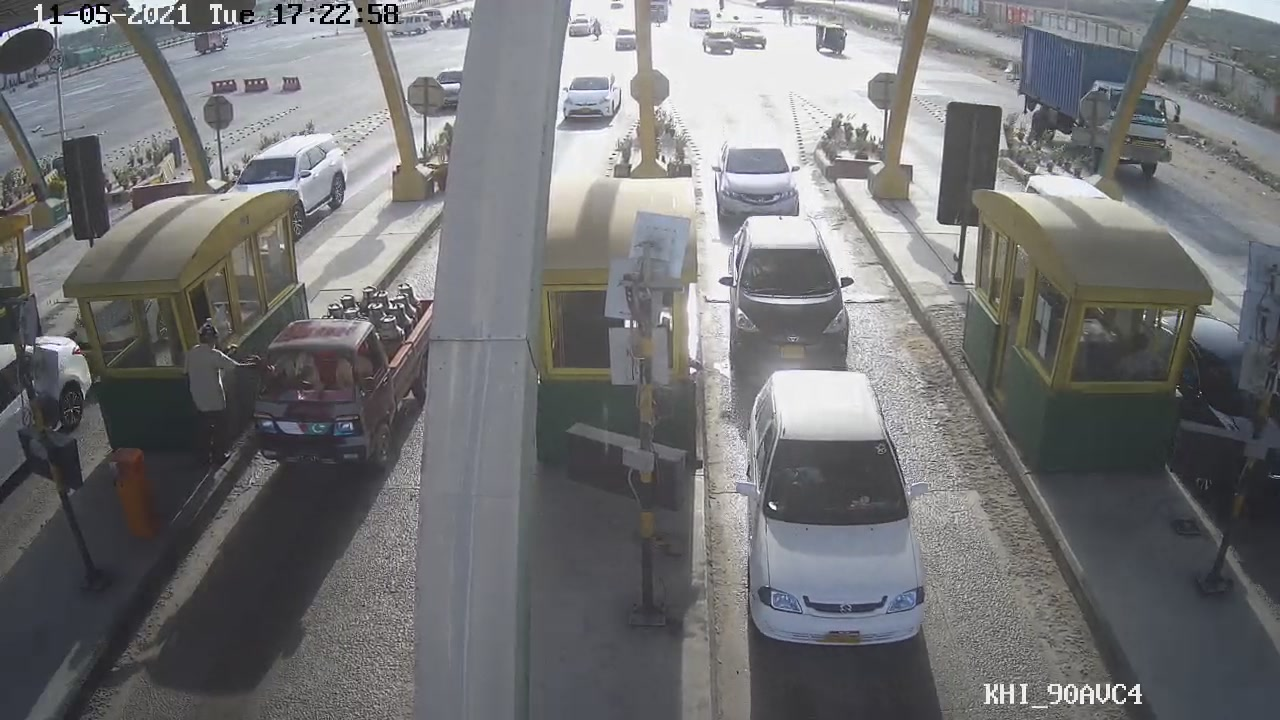F1: (731, 356, 937, 666), (713, 207, 867, 363)
